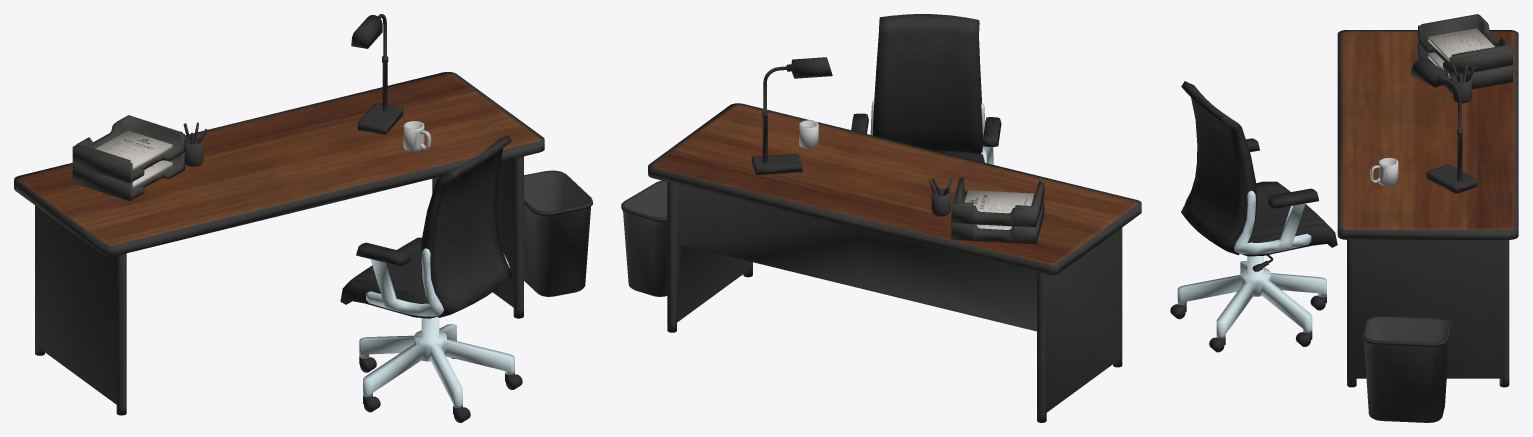
3 renders of one model, left to right at view 1: azimuth 30°, elevation 25°; view 2: azimuth 150°, elevation 25°; view 3: azimuth 270°, elevation 25°, orthographic. The views are drawn at different scales.
Parts seen in each view (by area): view 1: lowpoly.obj; view 2: lowpoly.obj; view 3: lowpoly.obj.
Boxes of the visible parts, bbox=[...] form: lowpoly.obj: bbox=[14, 14, 592, 422]; lowpoly.obj: bbox=[621, 14, 1141, 422]; lowpoly.obj: bbox=[1170, 14, 1518, 422].
Bounding box in the file's own units: 2.31 × 1.26 × 1.46.
10 materials, 10 textured.
